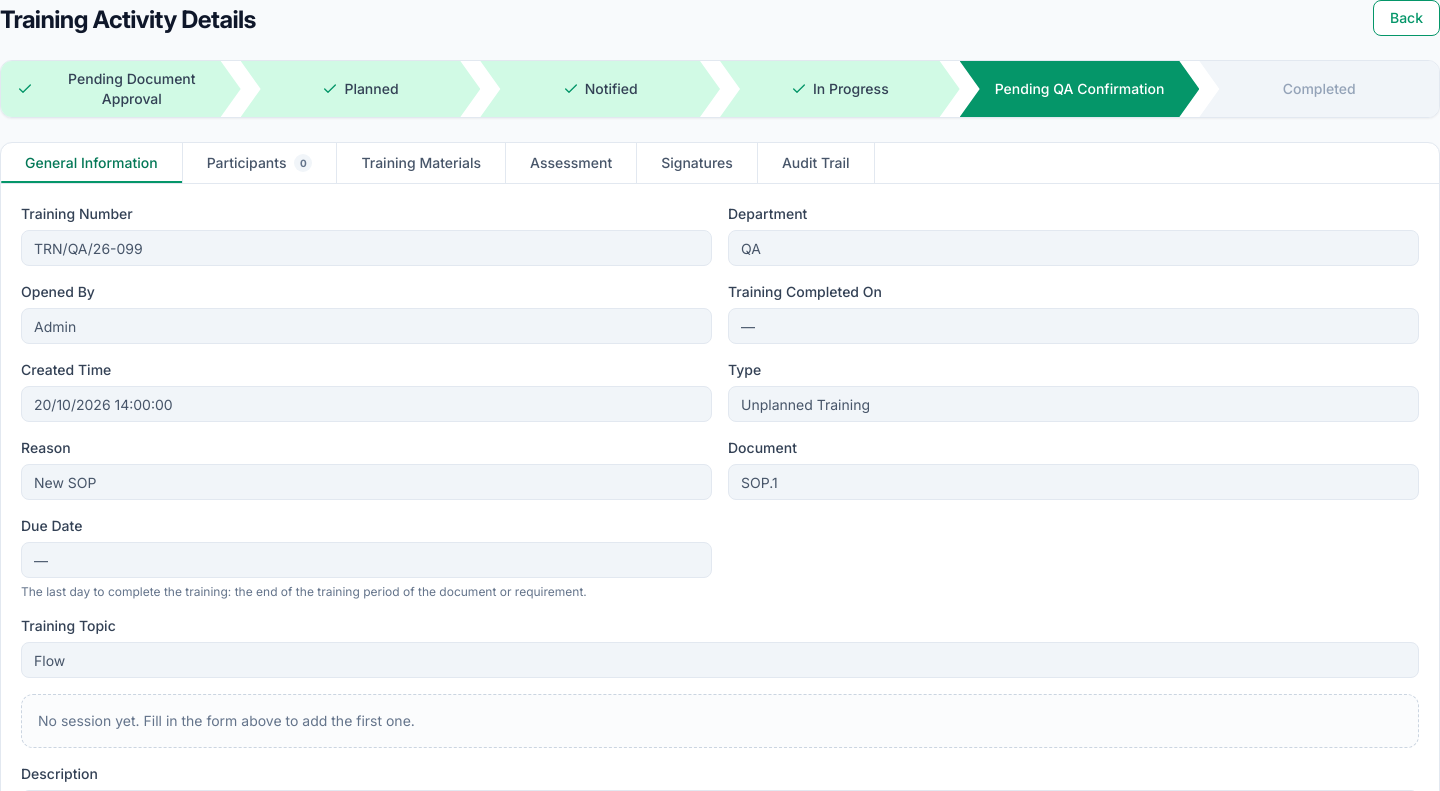
it: the tab Signatures lists only the steps that matter, in the order of the flow, each as a person on the left and a time on the right
The width and height of the screenshot is (1440, 791).
Click the tab "Signatures" at point(698, 163), box [637,143,758,183]
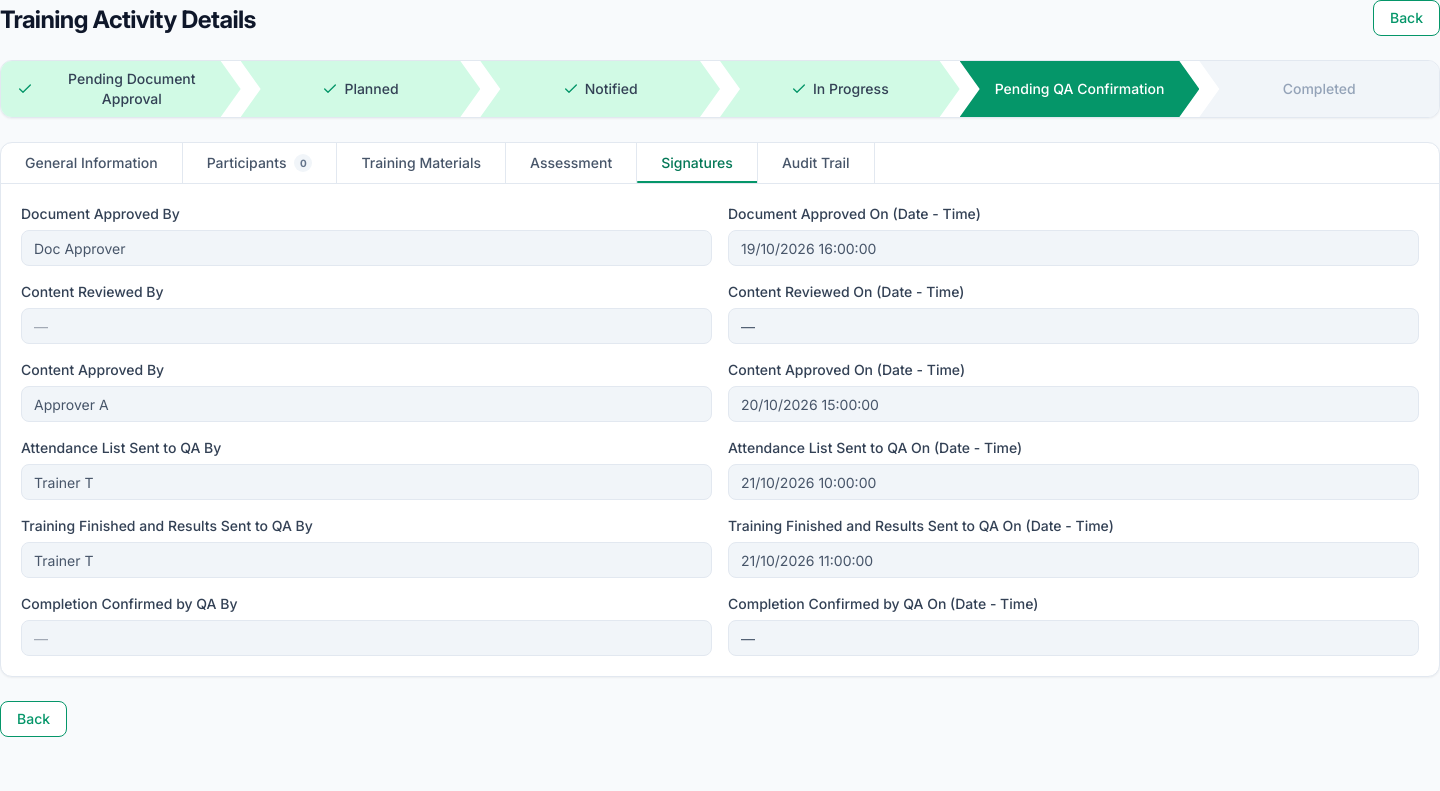
Now the field showing "Doc Approver" below "Document Approved By" is shown, box [21,230,712,266]
Now the field showing "Approver A" below "Content Approved By" is shown, box [21,386,712,422]
